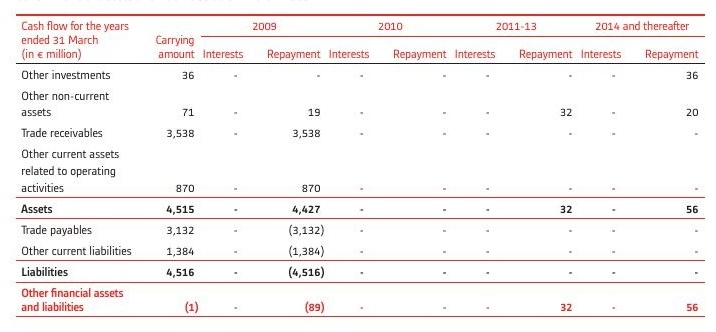table: (0, 0, 716, 332)
